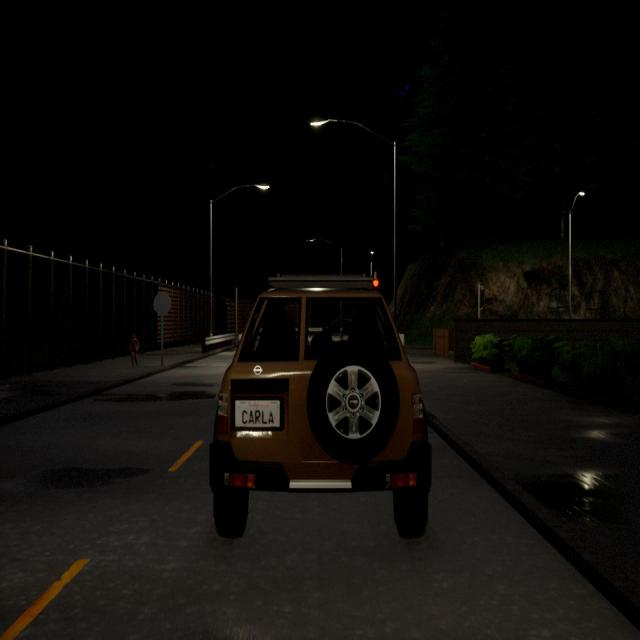Pedestrian: (129, 334, 139, 366)
Traffic_Signs: (151, 289, 172, 321)
Vehicle: (208, 273, 433, 539)
traffic_light: (478, 285, 486, 310), (372, 270, 380, 291)
